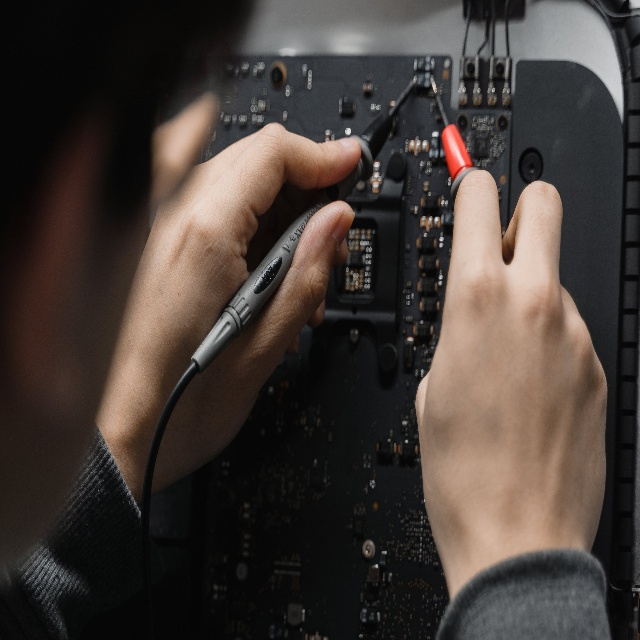Sin_guantes: (100, 120, 360, 503), (414, 167, 609, 590)
